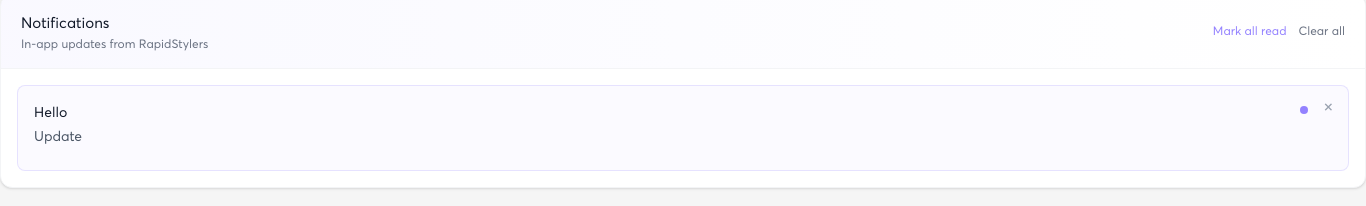
Test: notification read prevents repeat submission while pending
Click the button "Hello Update" at x=51, y=111, box 17,84 -> 1349,170
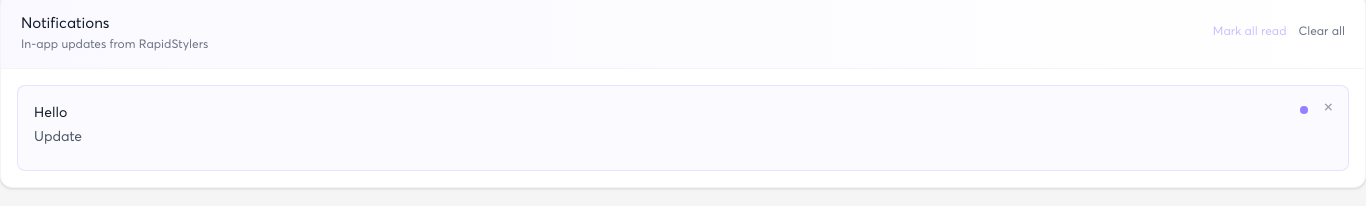
Click the button "Hello Update" at x=51, y=111, box 17,84 -> 1349,170
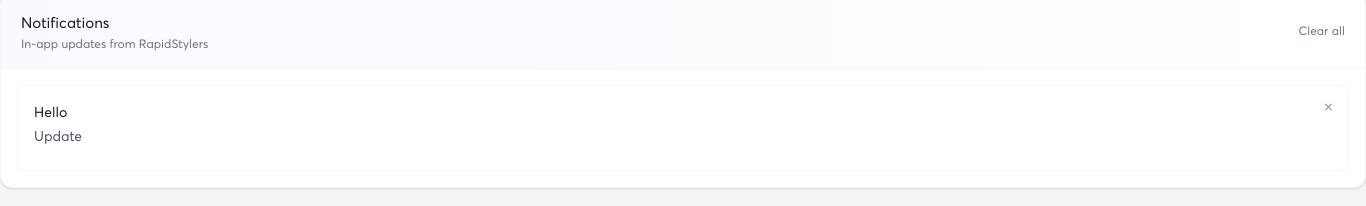
Check: the button "Hello Update" is enabled, box 17,84 -> 1349,170
